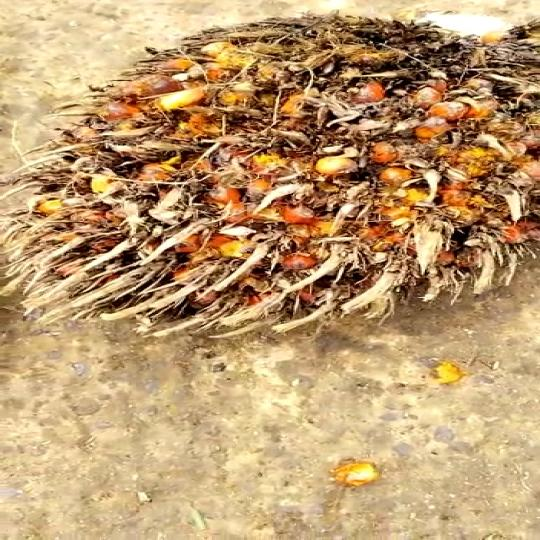terlalu masak: (0, 10, 540, 337)
